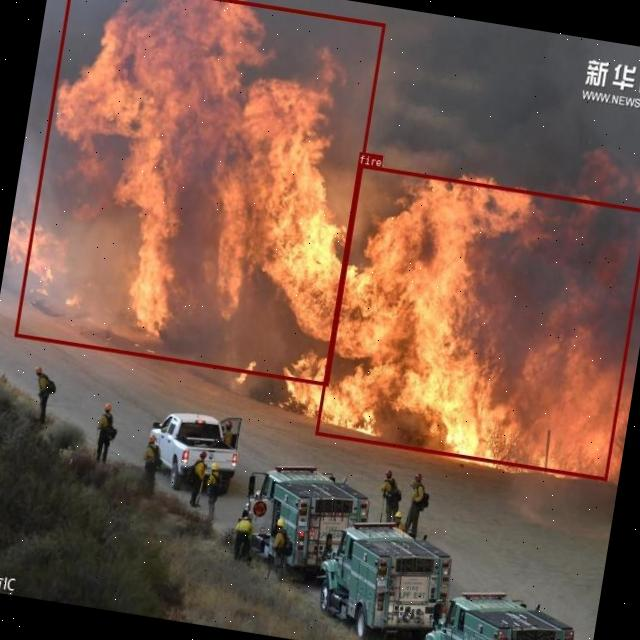fire: (14, 0, 385, 385), (315, 163, 640, 481)
